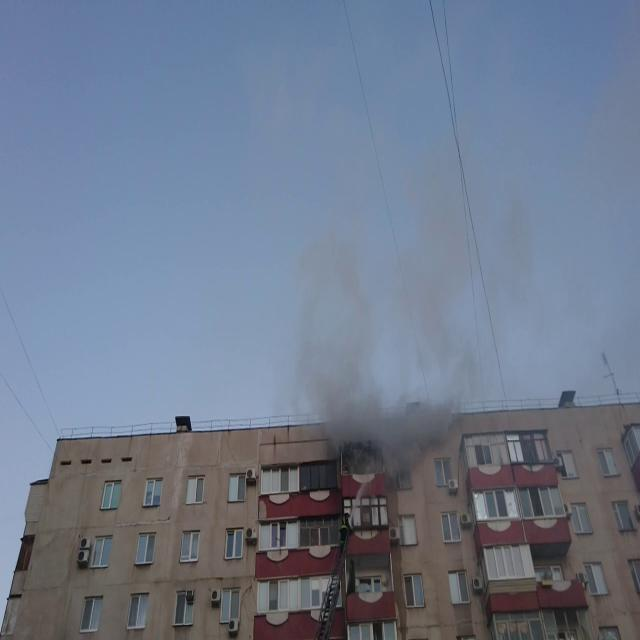Smoke: (264, 53, 634, 478)
